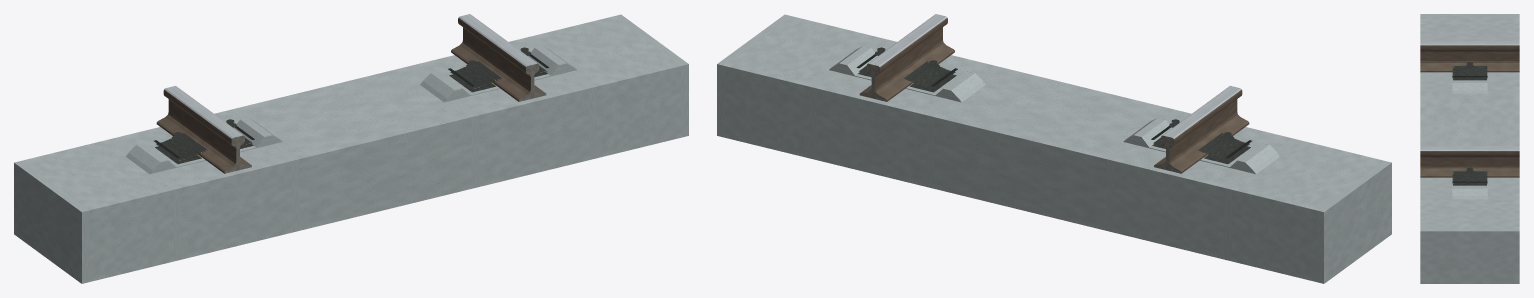
File: slab_mid.obj
3 views of the same model, side by side, from view 1: azimuth 30°, elevation 25°; view 2: azimuth 150°, elevation 25°; view 3: azimuth 270°, elevation 25° (orthographic). The views are drawn at different scales.
Visible parts, largest first — view 1: slab_bed, sleeper, rail_left, rail_right, fastener_right, fastener_left; view 2: slab_bed, sleeper, rail_left, rail_right, fastener_right, fastener_left; view 3: slab_bed, rail_left, rail_right, sleeper, fastener_left, fastener_right.
Boxes of the visible parts, x1,y1,x2,y2 form: slab_bed: (14, 14, 688, 283); sleeper: (126, 45, 576, 174); rail_left: (156, 86, 250, 173); rail_right: (451, 14, 544, 101); fastener_right: (448, 47, 549, 92); fastener_left: (154, 119, 254, 164); slab_bed: (717, 14, 1391, 283); sleeper: (829, 45, 1279, 174); rail_left: (1155, 86, 1249, 173); rail_right: (861, 14, 954, 101); fastener_right: (856, 47, 957, 92); fastener_left: (1151, 119, 1251, 164); slab_bed: (1420, 14, 1519, 283); rail_left: (1420, 40, 1519, 72); rail_right: (1420, 146, 1519, 177); sleeper: (1452, 72, 1487, 199); fastener_left: (1452, 62, 1487, 80); fastener_right: (1452, 167, 1487, 185).
Size of the model in its own units: 3.1 by 0.5324 by 0.6.
Materials: 1 (1 with a texture image).
